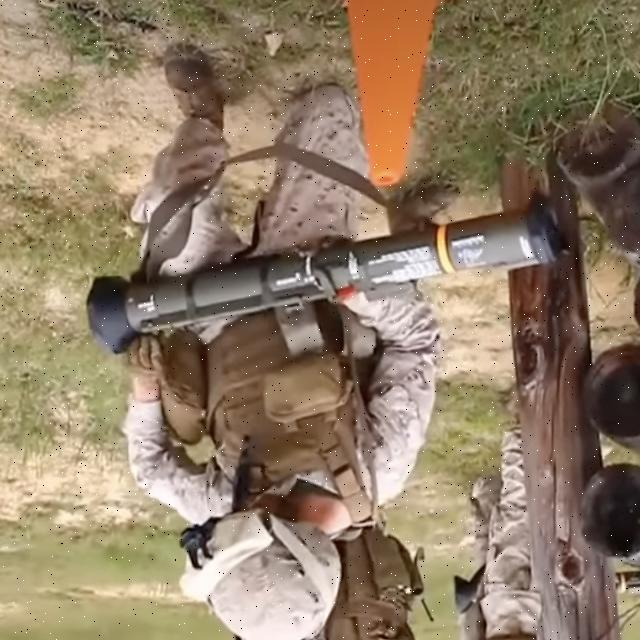bazooka: (67, 174, 578, 381)
